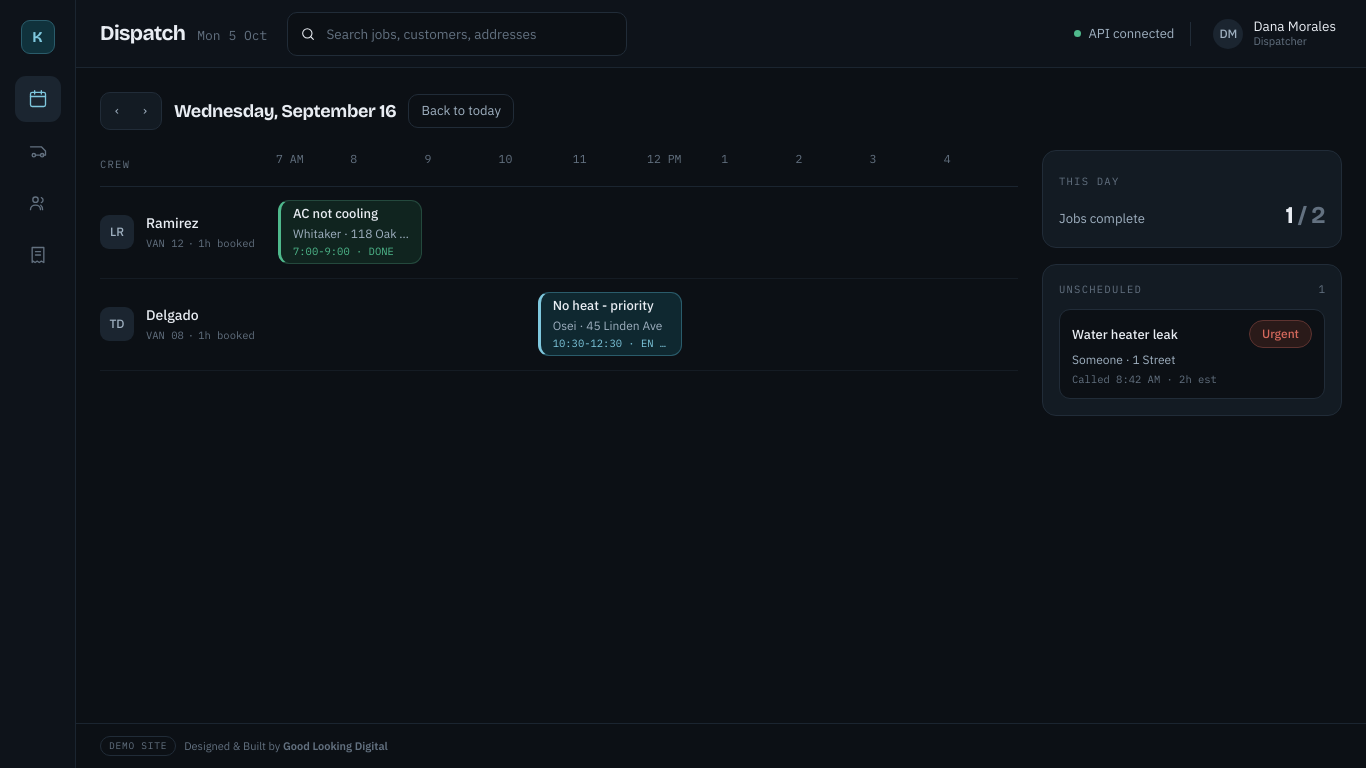
Test case: Kreworx › as the dispatcher › switches seats from the account menu without signing out
Click the button "DM Dana Morales Dispatcher" at (1275, 34), box [1207, 14, 1342, 53]
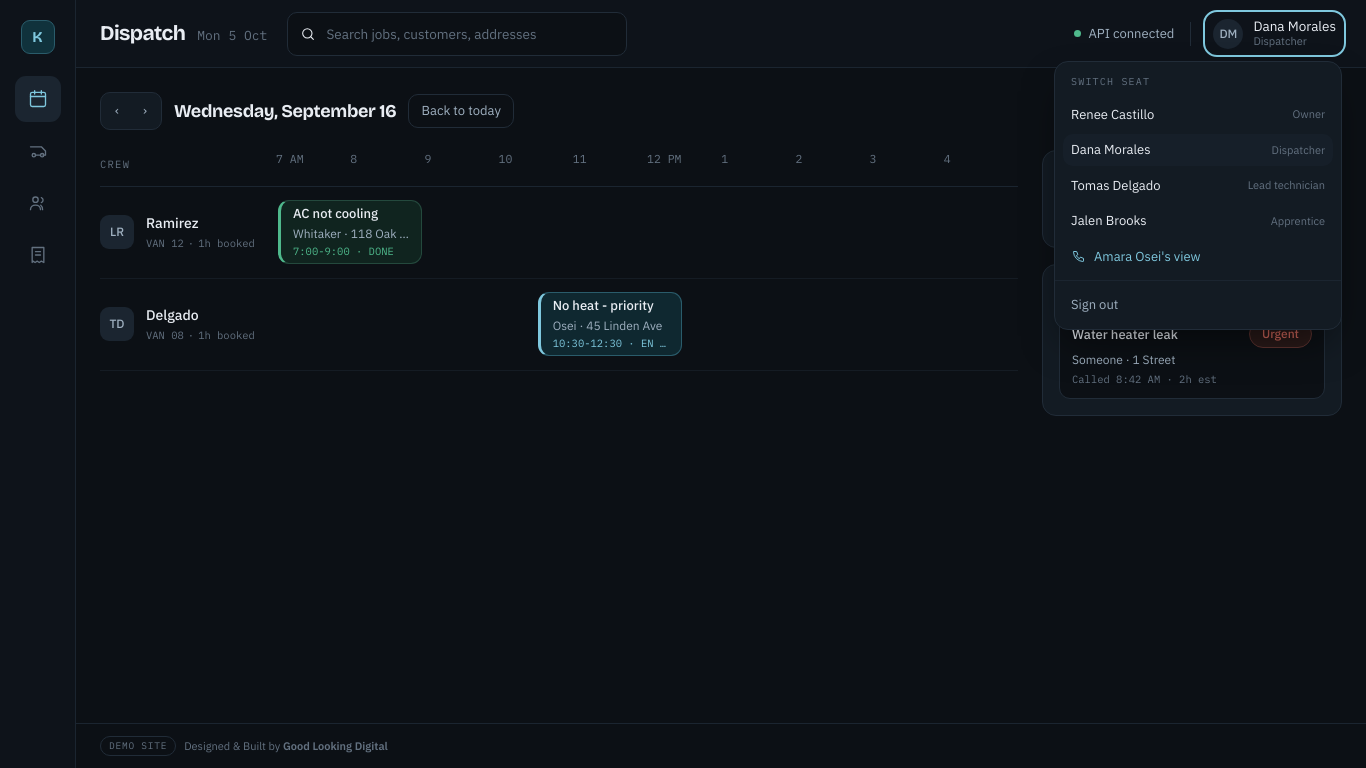
Click the menu item "Renee Castillo Owner" at (1113, 114), box [1063, 99, 1333, 130]
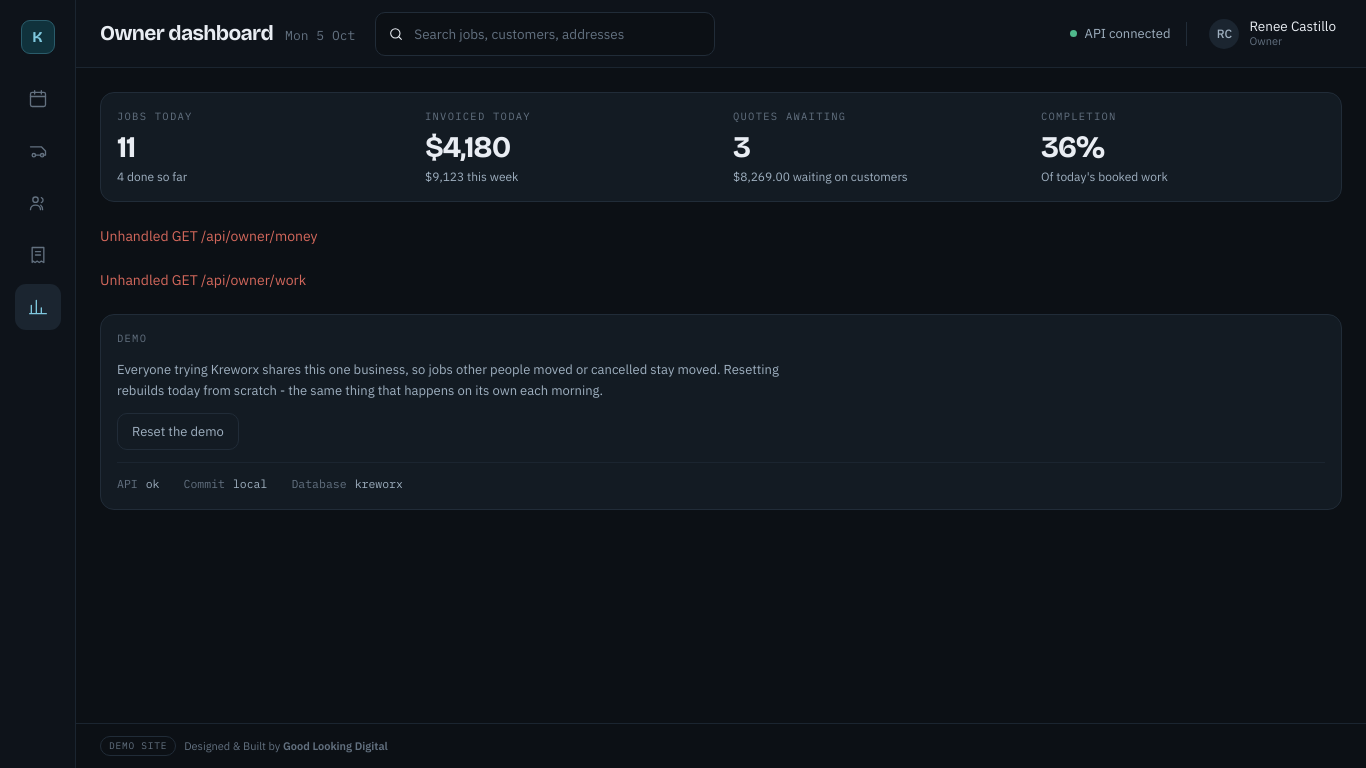
Expected: the heading "Owner dashboard" is shown, [100, 18, 273, 49]
Expected: the text "$4,180" is shown, [425, 129, 510, 165]
